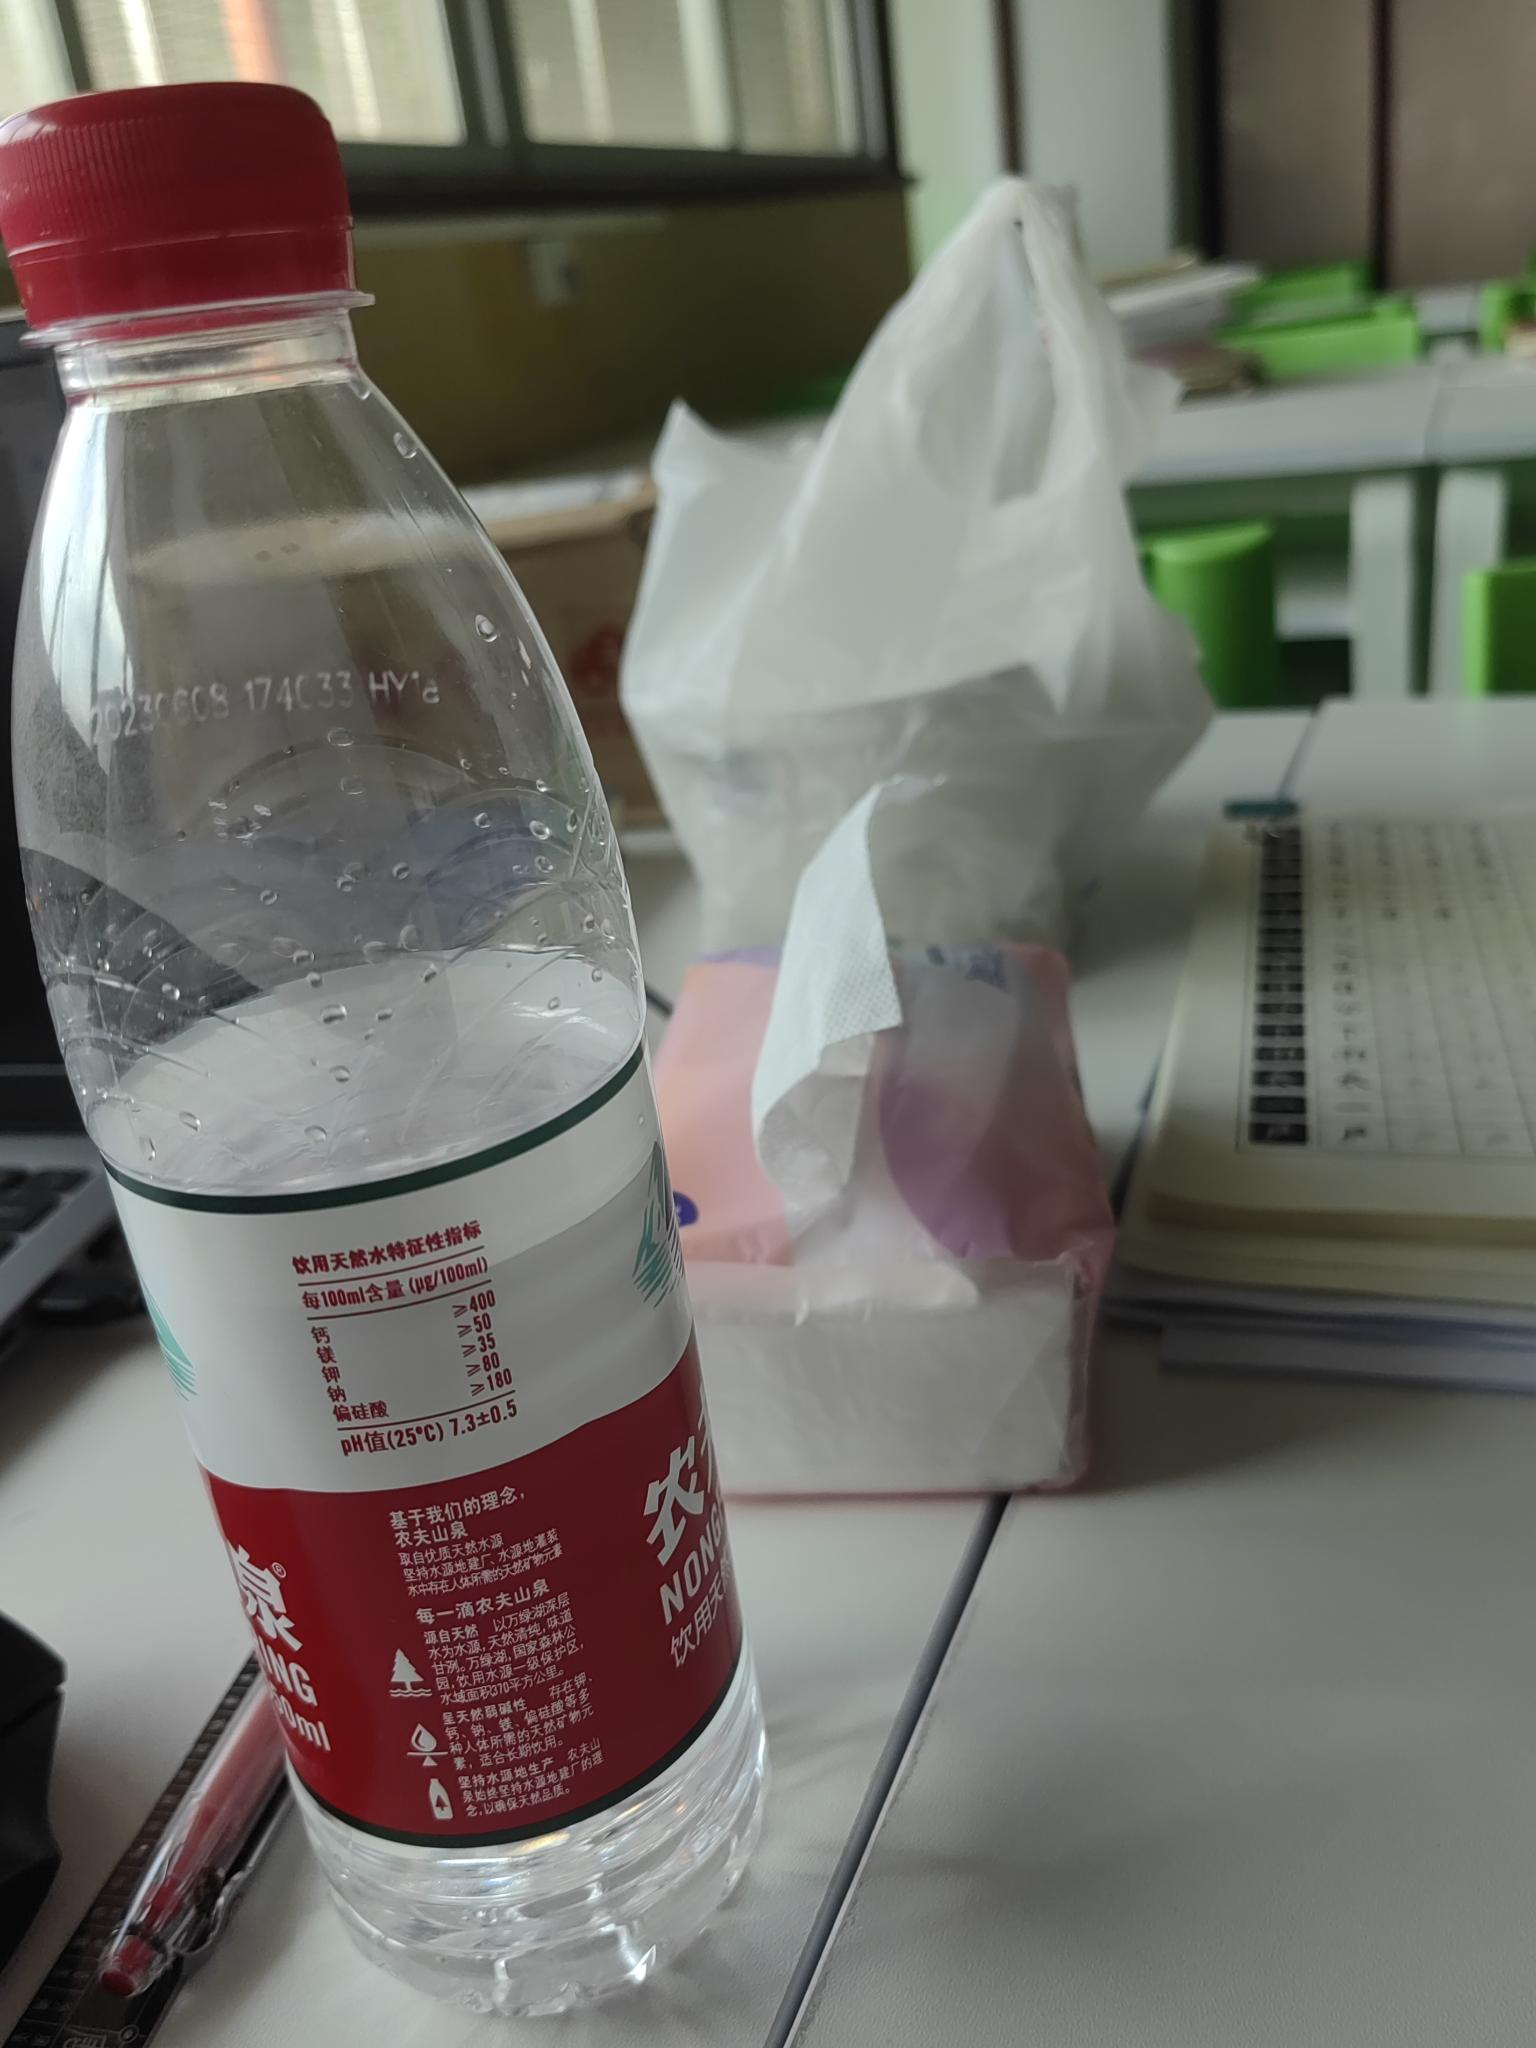plastic: (0, 82, 765, 2011)
